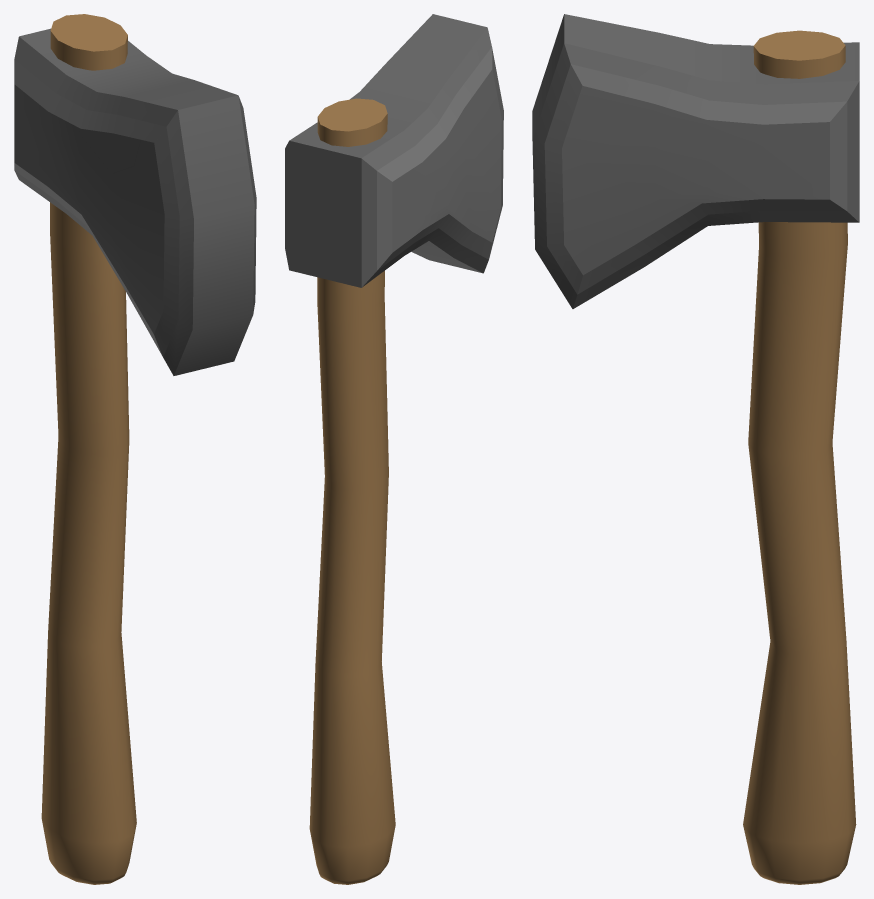
The model's file is Wood Axe.fbx.
3 renders of one model, left to right at view 1: azimuth 30°, elevation 25°; view 2: azimuth 150°, elevation 25°; view 3: azimuth 270°, elevation 25°, orthographic. The views are drawn at different scales.
Visible parts, largest first — view 1: Wood Axe; view 2: Wood Axe; view 3: Wood Axe.
Part boxes in pixels (x1,y1,x2,y2): Wood Axe: (14,14,256,884); Wood Axe: (285,14,503,884); Wood Axe: (532,14,859,884).
Bounding box in the file's own units: 0.0575 × 0.396 × 0.139.
